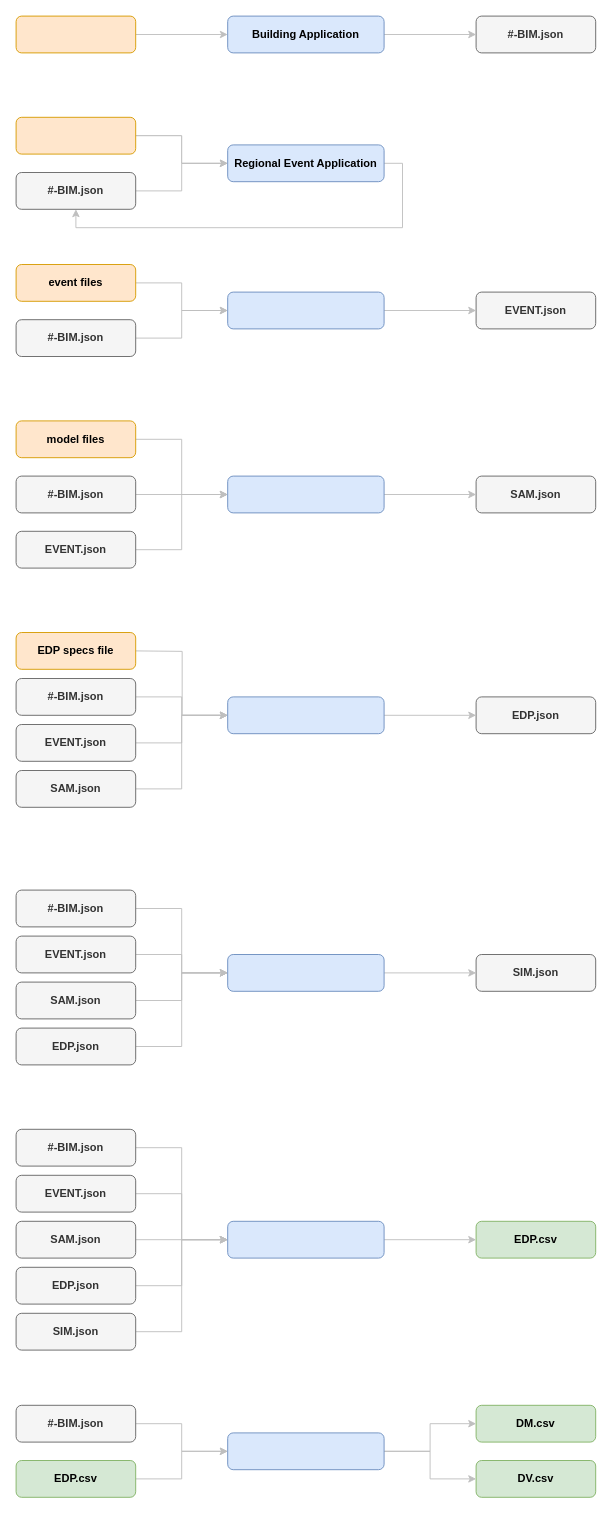
Image size: 612x1513. Some labels were removed from this diagram. Each missing label, with the centre of its shape:
"building source file" goes at pixel 75 34.
"DL Application" goes at pixel 305 1451.
"EDP Application" goes at pixel 305 715.
"Event Application" goes at pixel 305 310.
"event grid file" goes at pixel 75 135.
"Modeling Application" goes at pixel 305 494.
"Simulation Application" goes at pixel 305 972.
"UQ Application" goes at pixel 305 1239.
